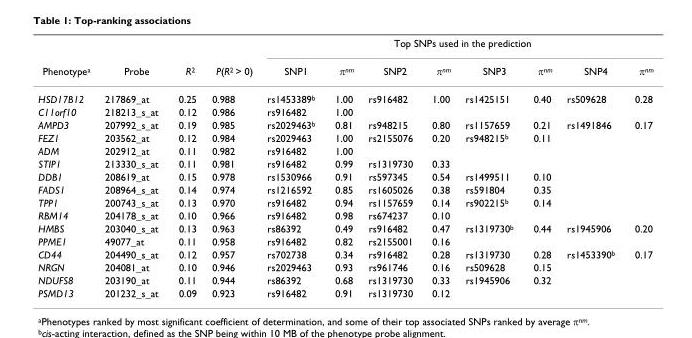table: (37, 36, 652, 298)
table column: (96, 36, 167, 298), (558, 36, 624, 298), (259, 36, 324, 298), (457, 36, 522, 298), (360, 36, 421, 298), (37, 36, 96, 298), (203, 36, 259, 298), (167, 36, 203, 298), (324, 36, 360, 298), (421, 36, 457, 298), (522, 36, 558, 298), (624, 36, 652, 298)
table column header: (37, 36, 652, 84)
table row: (37, 55, 652, 84), (37, 84, 652, 105), (37, 36, 652, 55), (37, 117, 652, 130), (37, 130, 652, 143), (37, 143, 652, 156), (37, 156, 652, 169), (37, 169, 652, 182), (37, 182, 652, 195), (37, 195, 652, 208), (37, 208, 652, 221), (37, 221, 652, 234), (37, 234, 652, 247), (37, 247, 652, 260), (37, 260, 652, 273), (37, 273, 652, 286), (37, 105, 652, 117), (37, 286, 652, 298)
table spanning cell: (259, 36, 652, 55), (96, 36, 167, 84), (37, 36, 96, 84), (203, 36, 259, 84), (167, 36, 203, 84)
